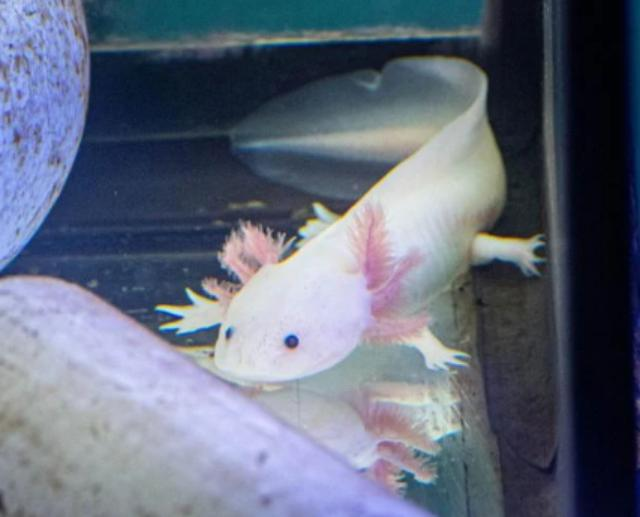Sirip Ekor: (204, 31, 400, 202)
